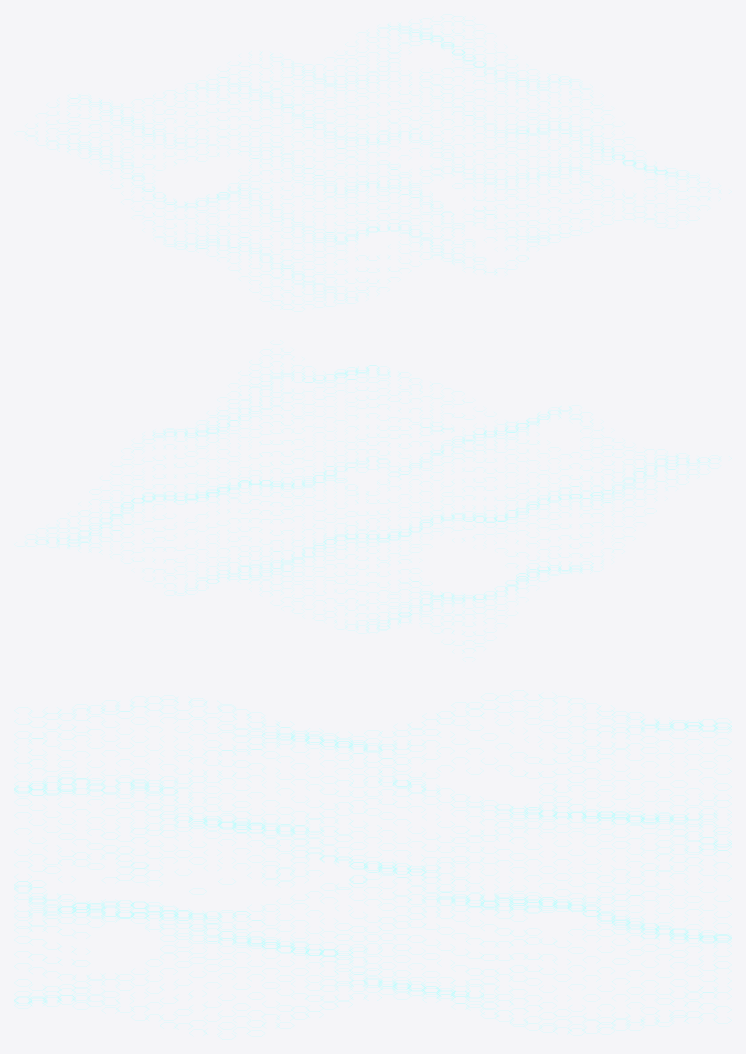
Rendered from golden_expanse_nav.glb.
3 views of the same model, one above another, from view 1: azimuth 30°, elevation 25°; view 2: azimuth 150°, elevation 25°; view 3: azimuth 270°, elevation 25° (orthographic). The views are drawn at different scales.
Parts seen in each view (by area): view 1: Movement outlines; view 2: Movement outlines; view 3: Movement outlines.
Part boxes in pixels (<box>): Movement outlines: <box>14,14,731,311</box>; Movement outlines: <box>14,340,731,661</box>; Movement outlines: <box>14,690,731,1039</box>.
Bounding box in the file's own units: 40.91 × 4.59 × 40.63.
